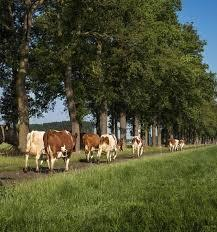cow: (42, 128, 77, 174), (23, 129, 46, 174), (94, 133, 118, 161), (81, 132, 101, 163), (130, 136, 145, 158), (167, 137, 184, 152)
